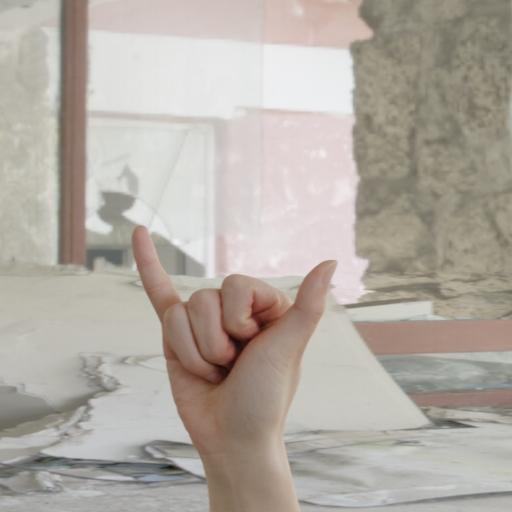Y: (100, 162, 424, 512)
